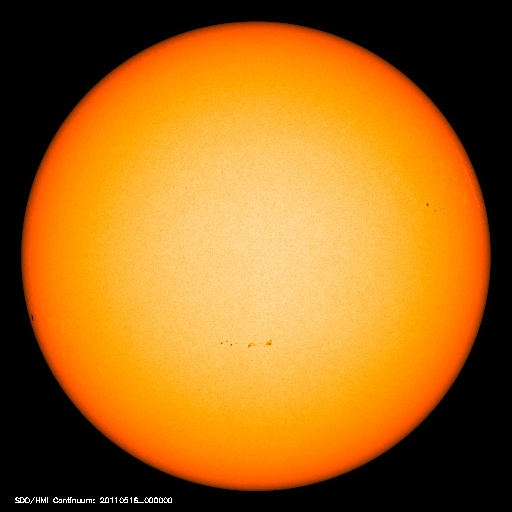sunspot: (206, 329, 280, 356), (412, 192, 452, 220), (21, 305, 44, 329)
